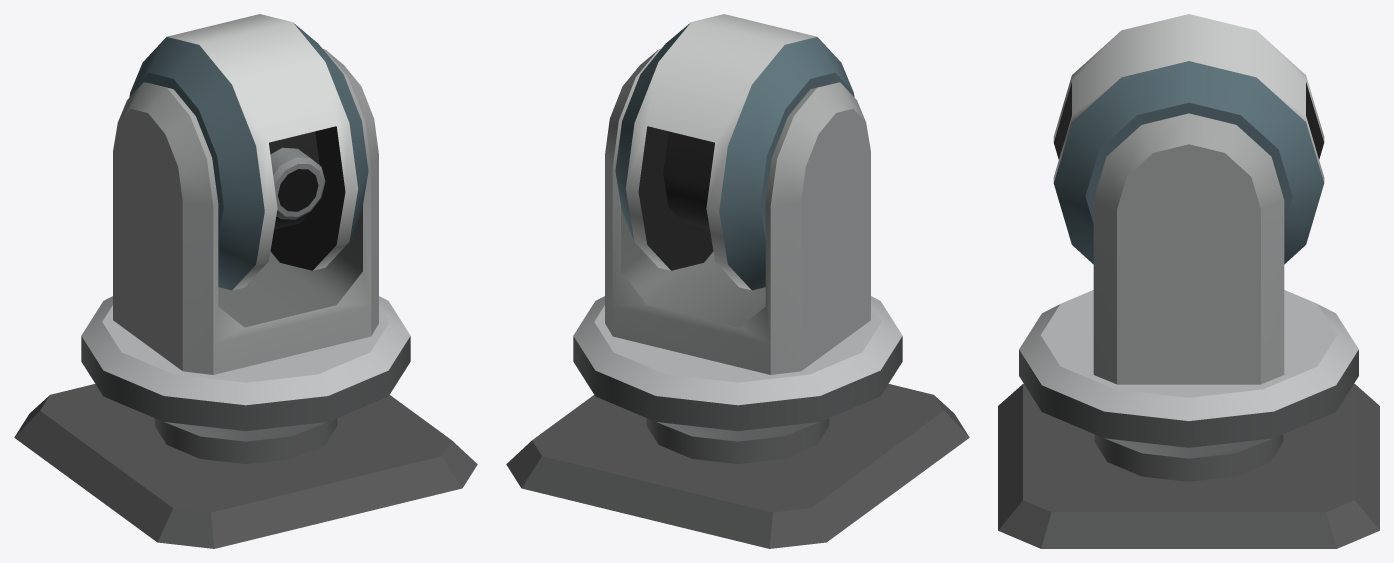
The model's file is Security_cam_006.glb.
The picture shows the model from 3 angles, left to right: view 1: azimuth 30°, elevation 25°; view 2: azimuth 150°, elevation 25°; view 3: azimuth 270°, elevation 25°; orthographic projection. The views are drawn at different scales.
Visible parts, largest first — view 1: Support_003, Security_cam_006, Cam_006; view 2: Support_003, Security_cam_006, Cam_006; view 3: Support_003, Security_cam_006, Cam_006.
Part boxes in pixels (x1,y1,x2,y2): Support_003: (81, 49, 410, 463); Security_cam_006: (14, 384, 477, 548); Cam_006: (129, 14, 368, 290); Support_003: (573, 49, 902, 463); Security_cam_006: (506, 384, 969, 548); Cam_006: (615, 14, 854, 290); Support_003: (1019, 113, 1358, 481); Security_cam_006: (998, 383, 1379, 548); Cam_006: (1053, 14, 1324, 264).
Bounding box in the file's own units: 0.2978 × 0.3709 × 0.2978.
Materials: 2 (1 with a texture image).
